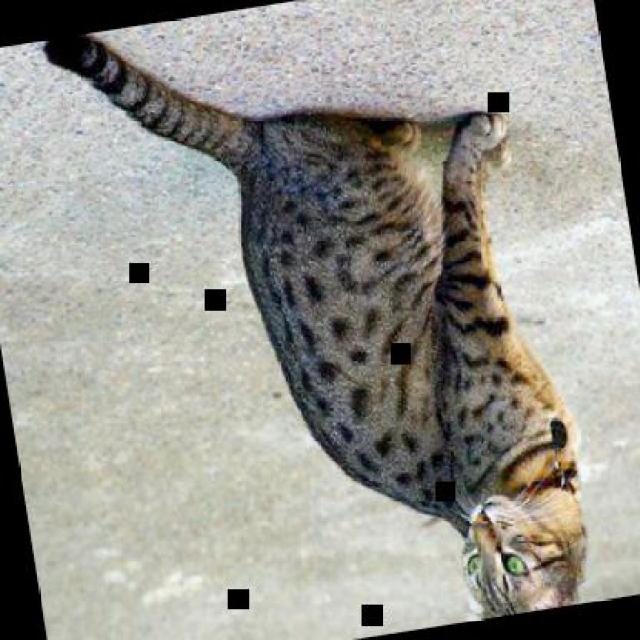cat: (33, 0, 601, 638)
